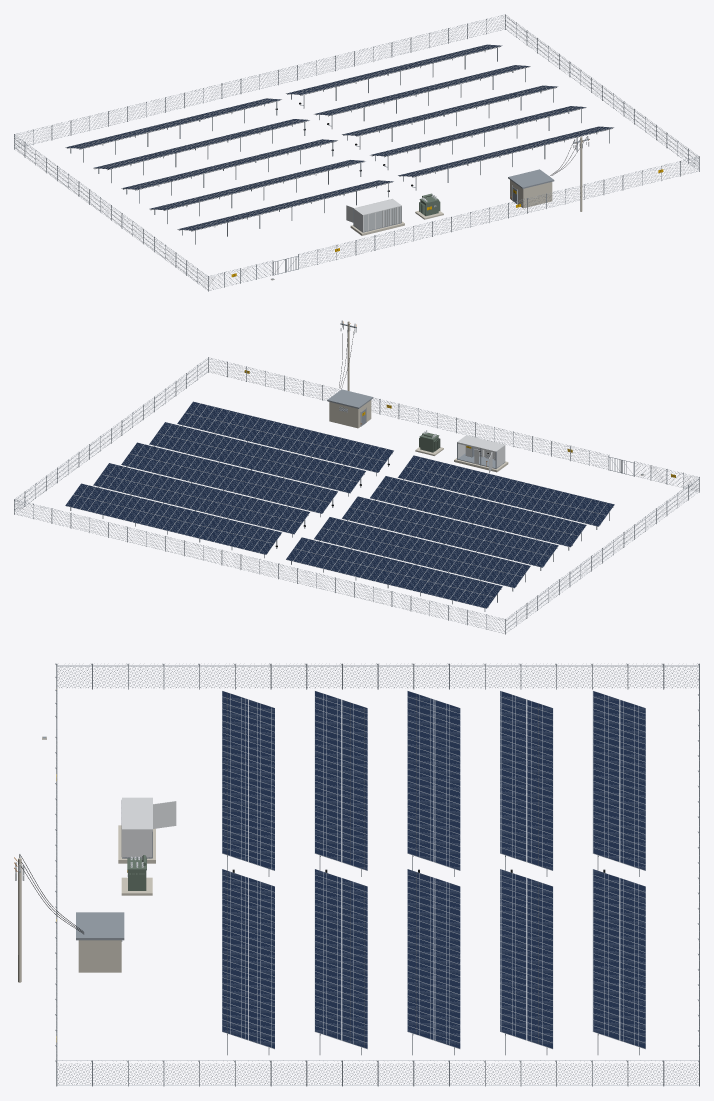
File: usina-fv.glb
3 renders of one model, top to bottom at view 1: azimuth 30°, elevation 25°; view 2: azimuth 150°, elevation 25°; view 3: azimuth 270°, elevation 25°, orthographic. The views are drawn at different scales.
Parts seen in each view (by area): view 1: corpo (×3), detalhe; view 2: corpo (×3); view 3: corpo (×3).
Boxes of the visible parts, left/top/right/bottom form: corpo (×3): left=346, top=169, right=554, bottom=232; detalhe: left=364, top=206, right=401, bottom=231; corpo (×3): left=327, top=389, right=505, bottom=473; corpo (×3): left=76, top=797, right=176, bottom=972.
Bounding box in the file's own units: 76.09 × 11 × 55.51.
